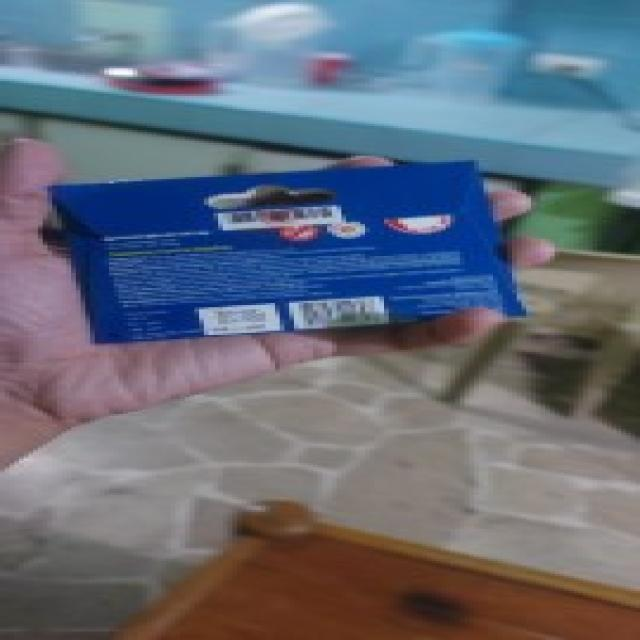Cacat: (45, 160, 538, 346)
